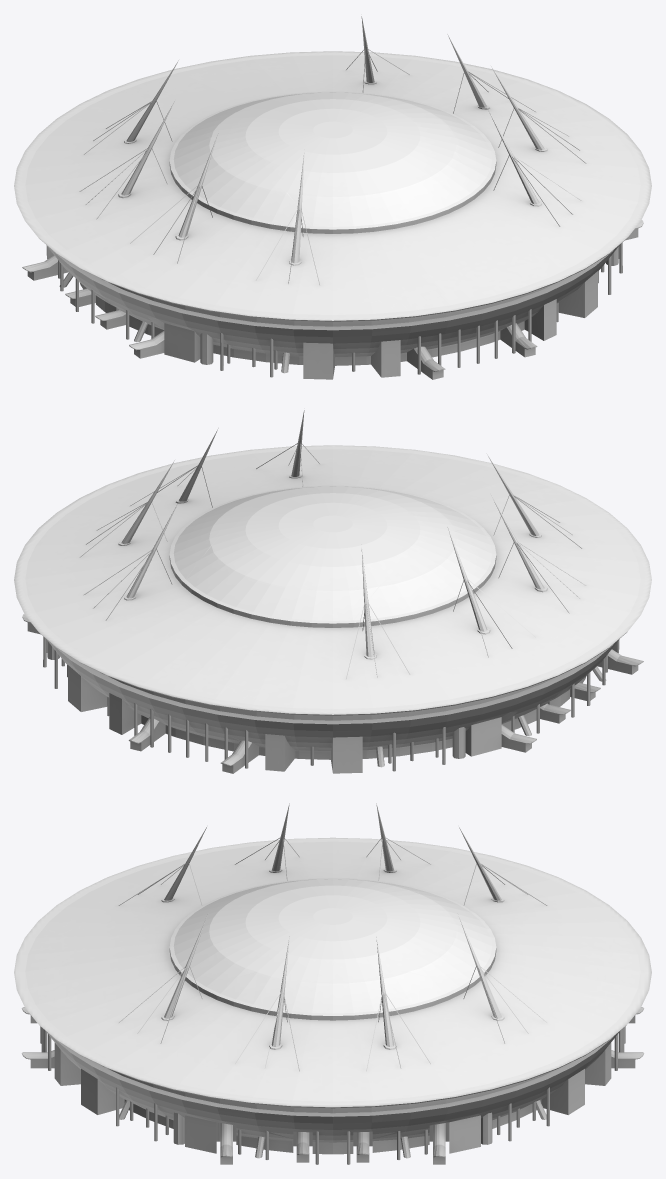
File: stadiumspb.dae
The picture shows the model from 3 angles, top to bottom: view 1: azimuth 30°, elevation 25°; view 2: azimuth 150°, elevation 25°; view 3: azimuth 270°, elevation 25°; orthographic projection.
Parts seen in each view (by area): view 1: stadiumspb; view 2: stadiumspb; view 3: stadiumspb.
Boxes of the visible parts, <box> form: stadiumspb: <box>14,16,651,379</box>; stadiumspb: <box>14,410,651,773</box>; stadiumspb: <box>14,803,651,1164</box>.
Bounding box in the file's own units: 0.4486 × 0.4486 × 0.1358.
1 material, 1 textured.
